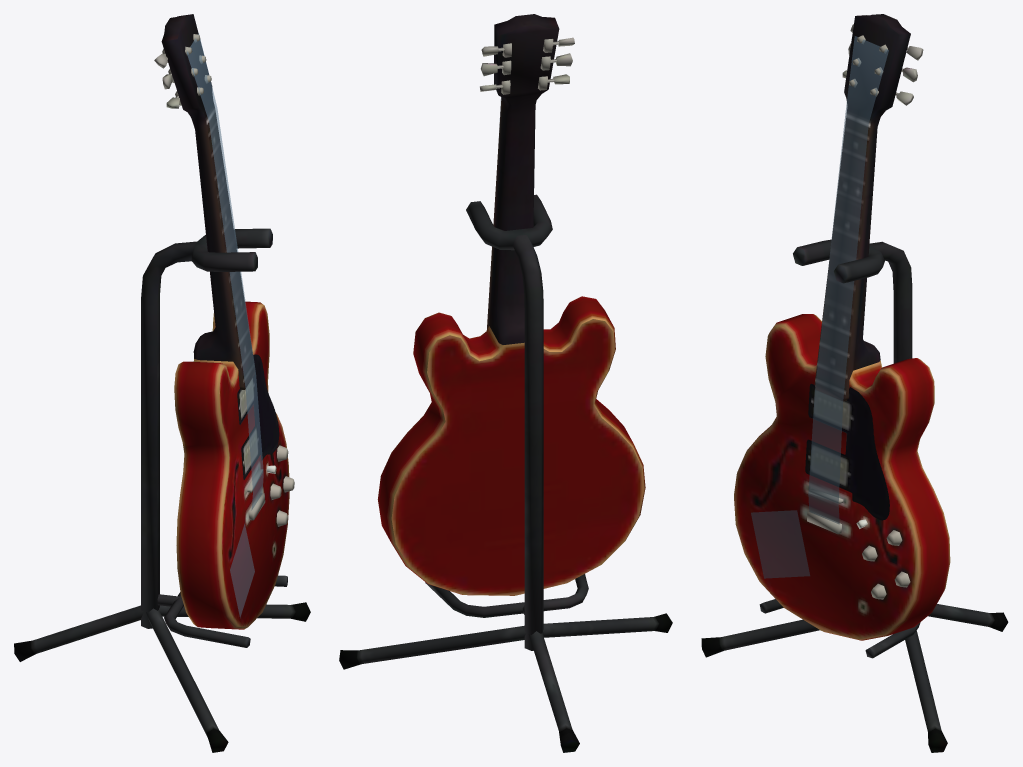
3 views of the same model, side by side, from view 1: azimuth 30°, elevation 25°; view 2: azimuth 150°, elevation 25°; view 3: azimuth 270°, elevation 25° (orthographic).
Size of the model in its own units: 6.25 by 14.9 by 6.25.
2 materials, 1 textured.
